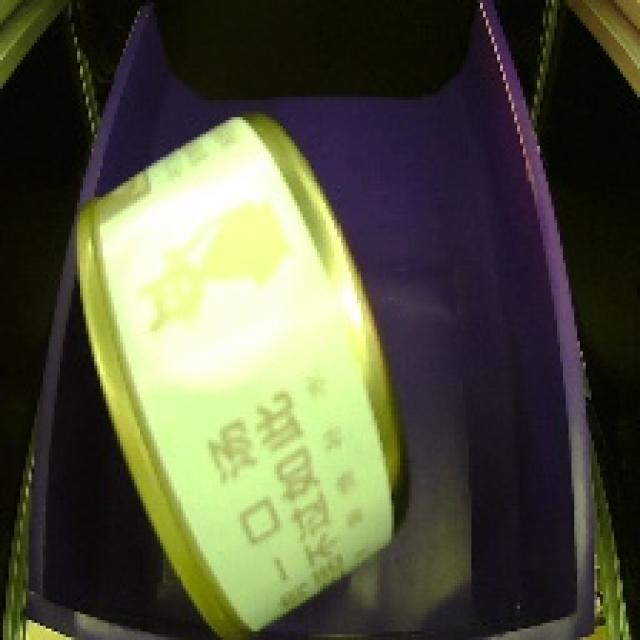metal: (56, 90, 420, 640)
